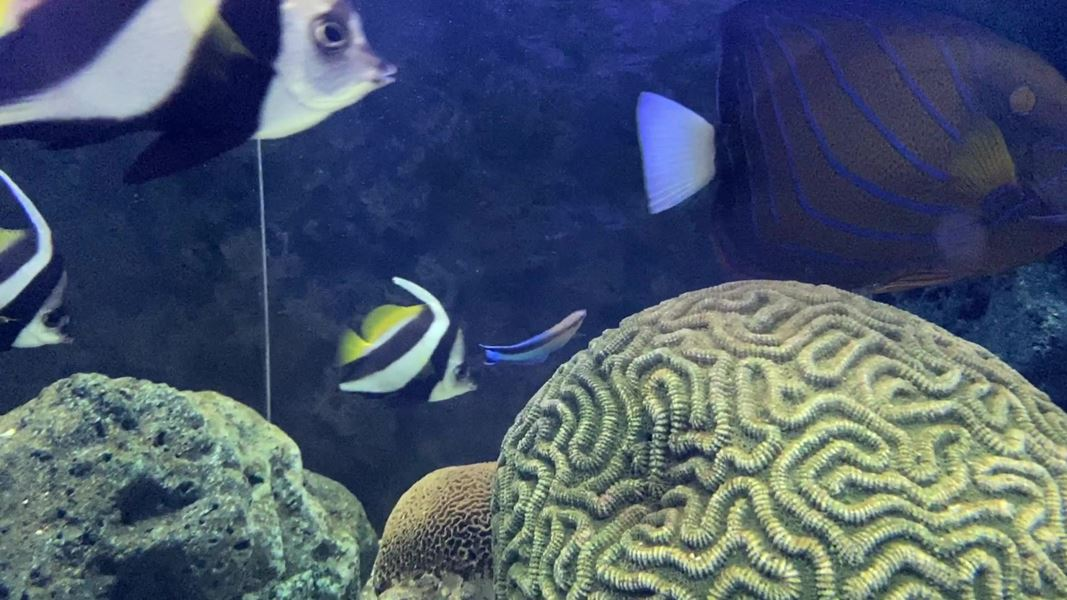Bluesteak cleaner wrasse: (470, 304, 595, 386)
